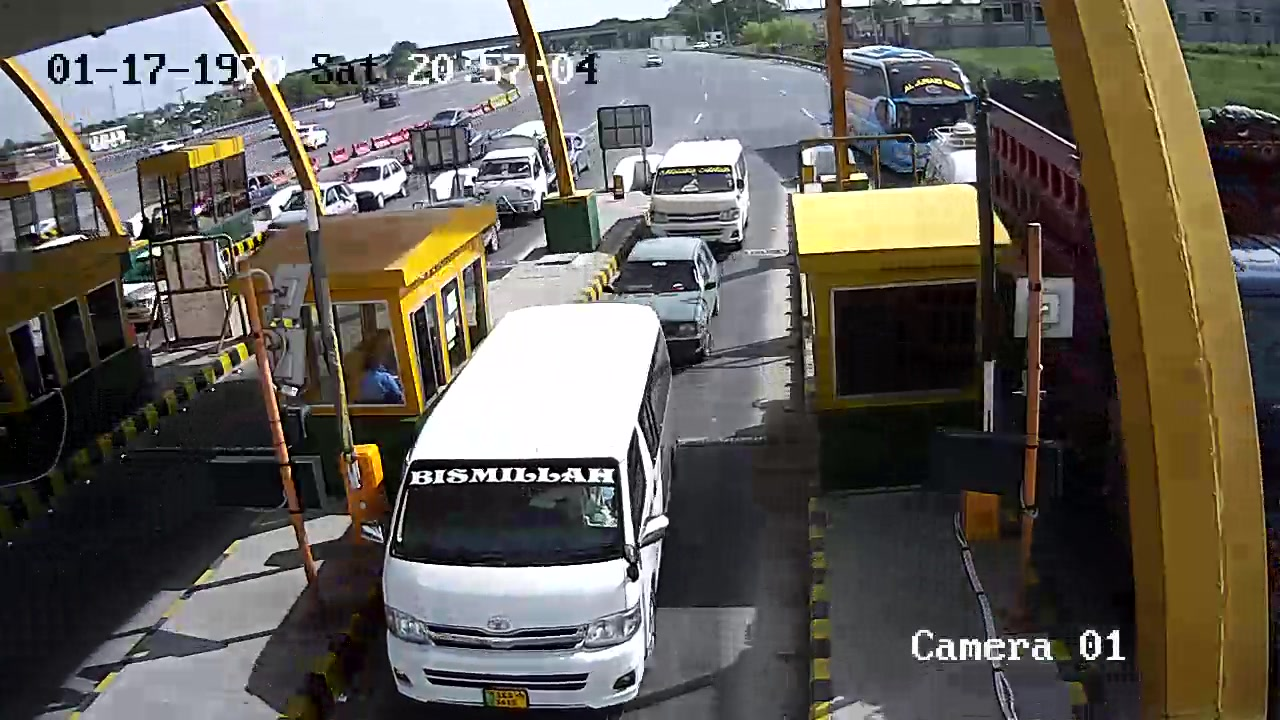F2: (388, 298, 682, 719)
